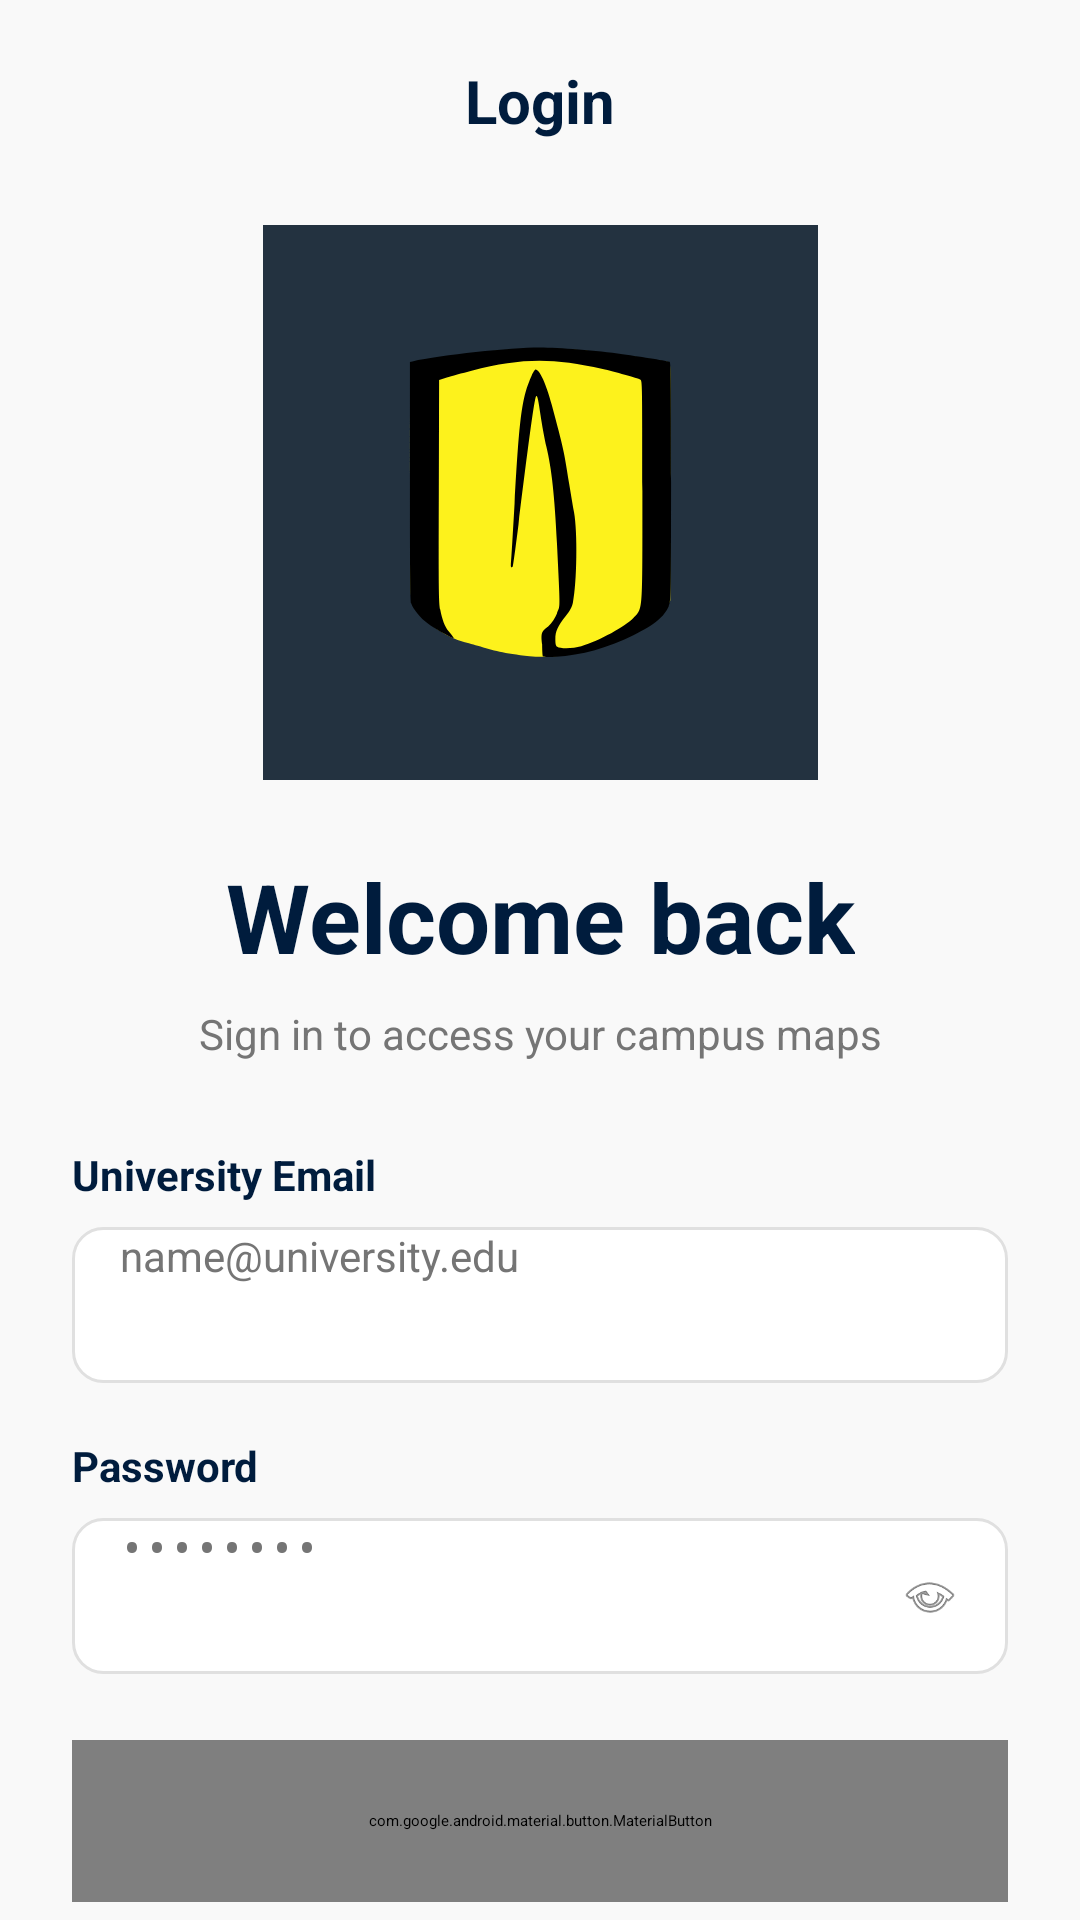

Locate icon controls on the screen. Image size 1080px x 1920px, boxes as (x1, y1, x2, y2).
Mostrar contraseña: (906, 1582, 954, 1613)
